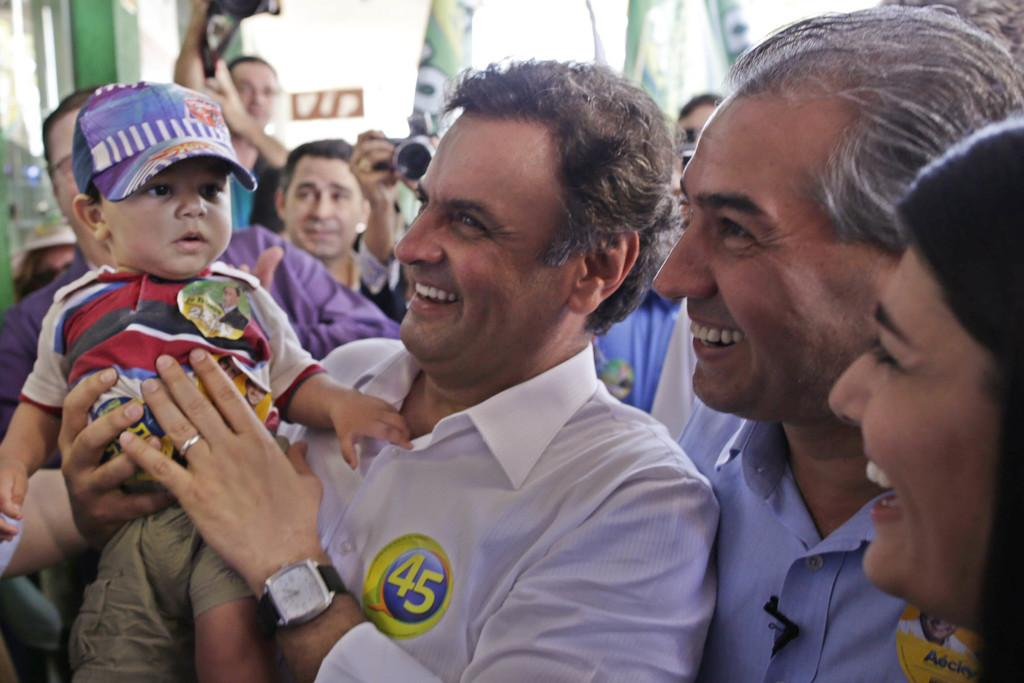Hat: (70, 79, 258, 201)
